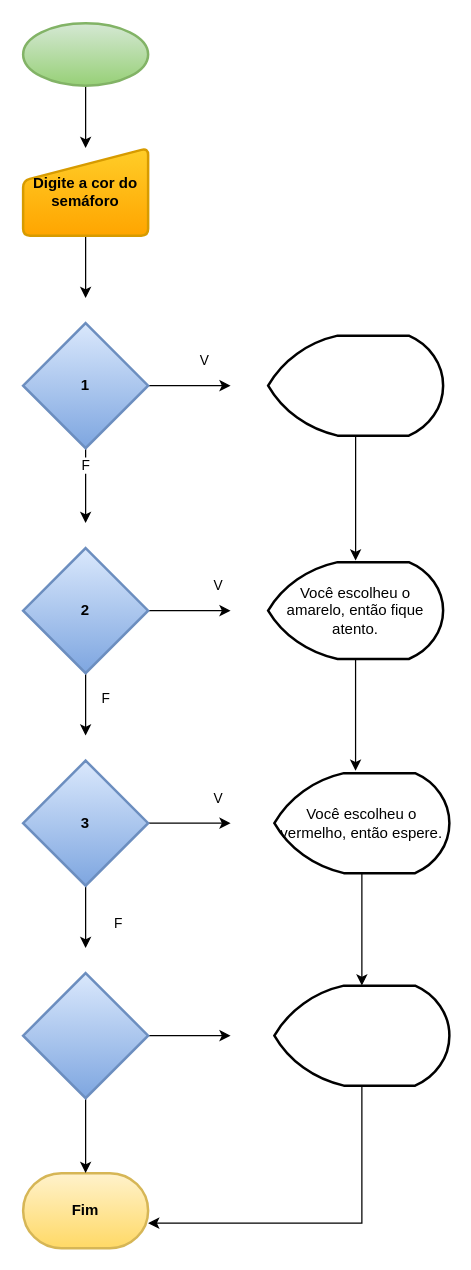
Image size: 471x1270. Some labels were removed from this diagram. Here are the shapes that lost their labels. From the top down, the centre of each, then its label:
point (85, 53): Inicio
point (355, 385): Você escolheu o verde, então pode ir.
point (85, 1035): (Qualquer outro número)
point (361, 1035): Opção Inválida.
